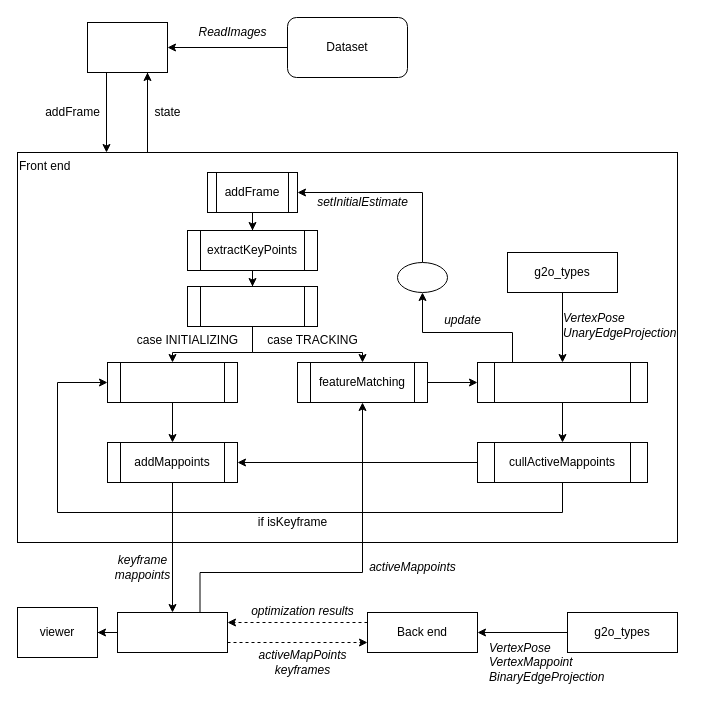
Some shapes in this 709 by 705 pixel diagram are drawn without their labels. Here are the shapes that lost their labels. From the top down, the centre of each, then its label:
the point at 127,47: run_vo
the point at 422,277: T_c_w_
the point at 252,306: computeDescriptors
the point at 172,382: addKeyFrame
the point at 562,382: poseEstimationPnP
the point at 172,632: Map
